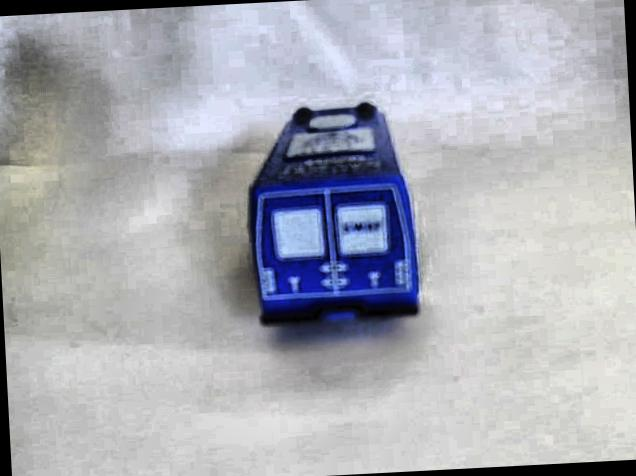police car: (238, 95, 434, 349)
